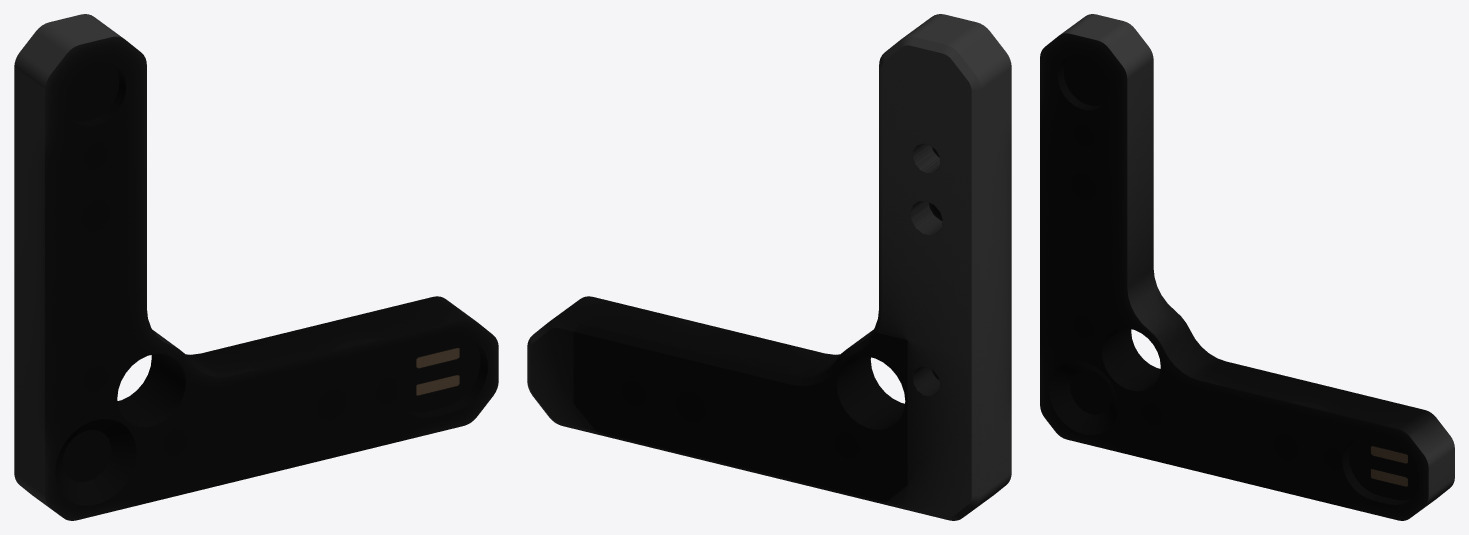
Rendered from PBS_KM100_vorne.obj.
The picture shows the model from 3 angles, left to right: view 1: azimuth 30°, elevation 25°; view 2: azimuth 150°, elevation 25°; view 3: azimuth 330°, elevation 25°; orthographic projection. The views are drawn at different scales.
Parts seen in each view (by area): view 1: polySurface1291 group155; view 2: polySurface1291 group155; view 3: polySurface1291 group155.
Boxes of the visible parts, x1,y1,x2,y2 form: polySurface1291 group155: (14, 14, 498, 520); polySurface1291 group155: (527, 14, 1011, 520); polySurface1291 group155: (1040, 14, 1454, 520).
Size of the model in its own units: 48.64 by 48.64 by 6.36.
Materials: 1 (1 with a texture image).
